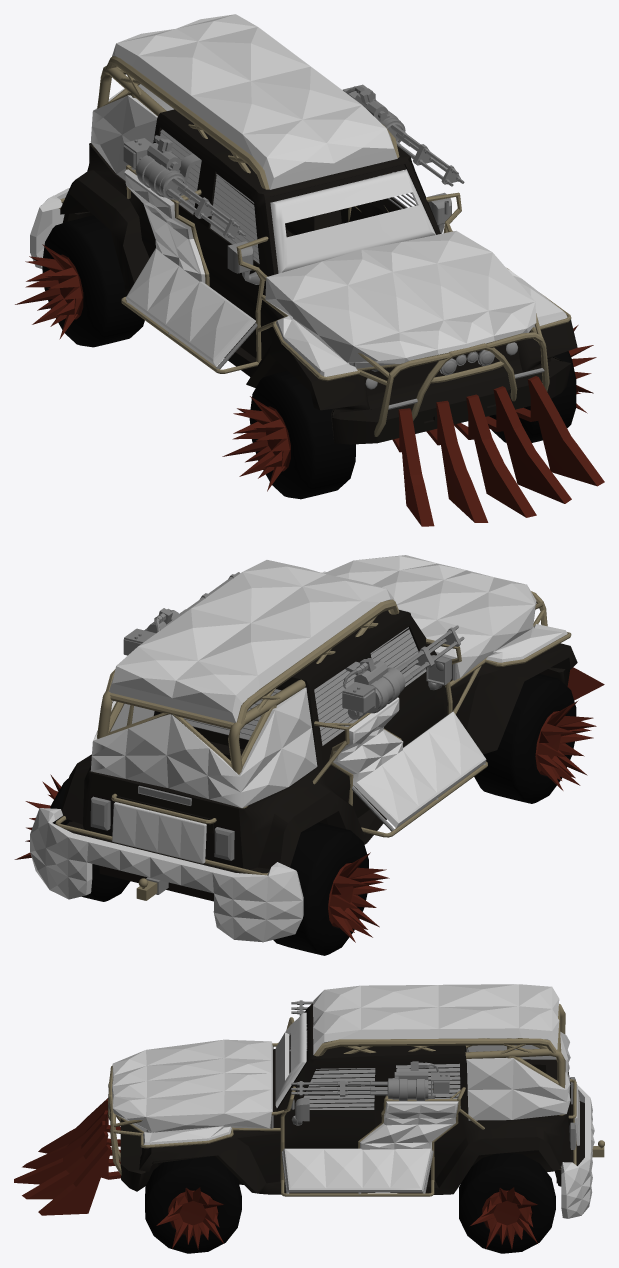
The model's file is Jeep Armored.obj.
3 views of the same model, one above another, from view 1: azimuth 30°, elevation 25°; view 2: azimuth 150°, elevation 25°; view 3: azimuth 270°, elevation 25° (orthographic). The views are drawn at different scales.
Visible parts, largest first — view 1: Body_With_Rollcage Jeep, Body_With_Rollcage Jeep Jeep_Armor Armor_Panel_1_Geo, Body_With_Rollcage Jeep Jeep_Armor Armor_Panel_4_Geo, Body_With_Rollcage Jeep Grill Jeep_Armor, Body_With_Rollcage Jeep Jeep_Armor Armor_Panel_3_Geo1, Body_With_Rollcage Jeep Jeep_Armor Wind_screen, Body_With_Rollcage Jeep Wheels polySurface428 Wheel_1_Geo, Body_With_Rollcage Jeep Wheels polySurface426 Wheel_3_Geo, Body_With_Rollcage Jeep Guns, Body_With_Rollcage Jeep Jeep_Armor Armor_Panel_5_Geo, Body_With_Rollcage Jeep Wheels Wheel_3_Geo Spikes_4_Geo, Body_With_Rollcage Jeep Jeep_Armor Window_Slats pCube13 (+3 smaller); view 2: Body_With_Rollcage Jeep, Body_With_Rollcage Jeep Jeep_Armor Armor_Panel_4_Geo, Body_With_Rollcage Jeep Jeep_Armor Armor_Panel_5_Geo, Body_With_Rollcage Jeep Jeep_Armor Back_Panel, Body_With_Rollcage Jeep Jeep_Armor Armor_Panel_1_Geo, Body_With_Rollcage Jeep Jeep_Armor Armor_Panel_3_Geo1, Body_With_Rollcage Jeep Wheels polySurface428 Wheel_1_Geo, Body_With_Rollcage Jeep Wheels polySurface426 Wheel_3_Geo, Body_With_Rollcage Jeep Guns, Body_With_Rollcage Jeep Jeep_Armor Armor_Panel_6_Geo, Body_With_Rollcage Jeep Jeep_Armor Window_Slats pCube13, Body_With_Rollcage Jeep Wheels Wheel_3_Geo Spikes_4_Geo (+4 smaller); view 3: Body_With_Rollcage Jeep, Body_With_Rollcage Jeep Jeep_Armor Armor_Panel_1_Geo, Body_With_Rollcage Jeep Jeep_Armor Armor_Panel_4_Geo, Body_With_Rollcage Jeep Jeep_Armor Armor_Panel_2_Geo, Body_With_Rollcage Jeep Grill Jeep_Armor, Body_With_Rollcage Jeep Jeep_Armor Armor_Panel_5_Geo, Body_With_Rollcage Jeep polySurface424 Wheel_4_Geo Wheels, Body_With_Rollcage Jeep Wheels polySurface422 Wheel_2_Geo, Body_With_Rollcage Jeep Guns, Body_With_Rollcage Jeep Jeep_Armor Window_Slats pCube13, Body_With_Rollcage Jeep Jeep_Armor Back_Panel, Body_With_Rollcage Jeep Wheel_4_Geo Wheels Spikes_2_Geo (+2 smaller).
Boxes of the visible parts, bbox=[...] form: Body_With_Rollcage Jeep: bbox=[59, 56, 577, 444]; Body_With_Rollcage Jeep Jeep_Armor Armor_Panel_1_Geo: bbox=[265, 230, 567, 376]; Body_With_Rollcage Jeep Jeep_Armor Armor_Panel_4_Geo: bbox=[112, 14, 397, 189]; Body_With_Rollcage Jeep Grill Jeep_Armor: bbox=[392, 376, 604, 526]; Body_With_Rollcage Jeep Jeep_Armor Armor_Panel_3_Geo1: bbox=[124, 169, 255, 366]; Body_With_Rollcage Jeep Jeep_Armor Wind_screen: bbox=[270, 169, 435, 273]; Body_With_Rollcage Jeep Wheels polySurface428 Wheel_1_Geo: bbox=[249, 370, 355, 499]; Body_With_Rollcage Jeep Wheels polySurface426 Wheel_3_Geo: bbox=[42, 215, 144, 347]; Body_With_Rollcage Jeep Guns: bbox=[123, 84, 464, 239]; Body_With_Rollcage Jeep Jeep_Armor Armor_Panel_5_Geo: bbox=[90, 84, 173, 180]; Body_With_Rollcage Jeep Wheels Wheel_3_Geo Spikes_4_Geo: bbox=[15, 244, 83, 339]; Body_With_Rollcage Jeep Jeep_Armor Window_Slats pCube13: bbox=[160, 129, 416, 263]; Body_With_Rollcage Jeep: bbox=[55, 591, 577, 901]; Body_With_Rollcage Jeep Jeep_Armor Armor_Panel_4_Geo: bbox=[109, 560, 394, 722]; Body_With_Rollcage Jeep Jeep_Armor Armor_Panel_5_Geo: bbox=[90, 687, 317, 807]; Body_With_Rollcage Jeep Jeep_Armor Back_Panel: bbox=[30, 808, 303, 942]; Body_With_Rollcage Jeep Jeep_Armor Armor_Panel_1_Geo: bbox=[322, 555, 567, 679]; Body_With_Rollcage Jeep Jeep_Armor Armor_Panel_3_Geo1: bbox=[333, 697, 486, 827]; Body_With_Rollcage Jeep Wheels polySurface428 Wheel_1_Geo: bbox=[474, 673, 576, 803]; Body_With_Rollcage Jeep Wheels polySurface426 Wheel_3_Geo: bbox=[273, 822, 368, 955]; Body_With_Rollcage Jeep Guns: bbox=[123, 572, 464, 719]; Body_With_Rollcage Jeep Jeep_Armor Armor_Panel_6_Geo: bbox=[112, 802, 206, 863]; Body_With_Rollcage Jeep Jeep_Armor Window_Slats pCube13: bbox=[314, 627, 426, 745]; Body_With_Rollcage Jeep Wheels Wheel_3_Geo Spikes_4_Geo: bbox=[328, 852, 389, 942]; Body_With_Rollcage Jeep: bbox=[108, 1003, 604, 1196]; Body_With_Rollcage Jeep Jeep_Armor Armor_Panel_1_Geo: bbox=[112, 1039, 272, 1144]; Body_With_Rollcage Jeep Jeep_Armor Armor_Panel_4_Geo: bbox=[313, 984, 559, 1054]; Body_With_Rollcage Jeep Jeep_Armor Armor_Panel_2_Geo: bbox=[283, 1101, 458, 1192]; Body_With_Rollcage Jeep Grill Jeep_Armor: bbox=[14, 1098, 120, 1215]; Body_With_Rollcage Jeep Jeep_Armor Armor_Panel_5_Geo: bbox=[466, 1031, 570, 1120]; Body_With_Rollcage Jeep polySurface424 Wheel_4_Geo Wheels: bbox=[459, 1153, 555, 1253]; Body_With_Rollcage Jeep Wheels polySurface422 Wheel_2_Geo: bbox=[145, 1156, 241, 1253]; Body_With_Rollcage Jeep Guns: bbox=[291, 1000, 449, 1101]; Body_With_Rollcage Jeep Jeep_Armor Window_Slats pCube13: bbox=[289, 1024, 460, 1109]; Body_With_Rollcage Jeep Jeep_Armor Back_Panel: bbox=[561, 1085, 594, 1218]; Body_With_Rollcage Jeep Wheel_4_Geo Wheels Spikes_2_Geo: bbox=[470, 1187, 537, 1249].
Bounding box in the file's own units: 23.92 × 18.23 × 47.28.
